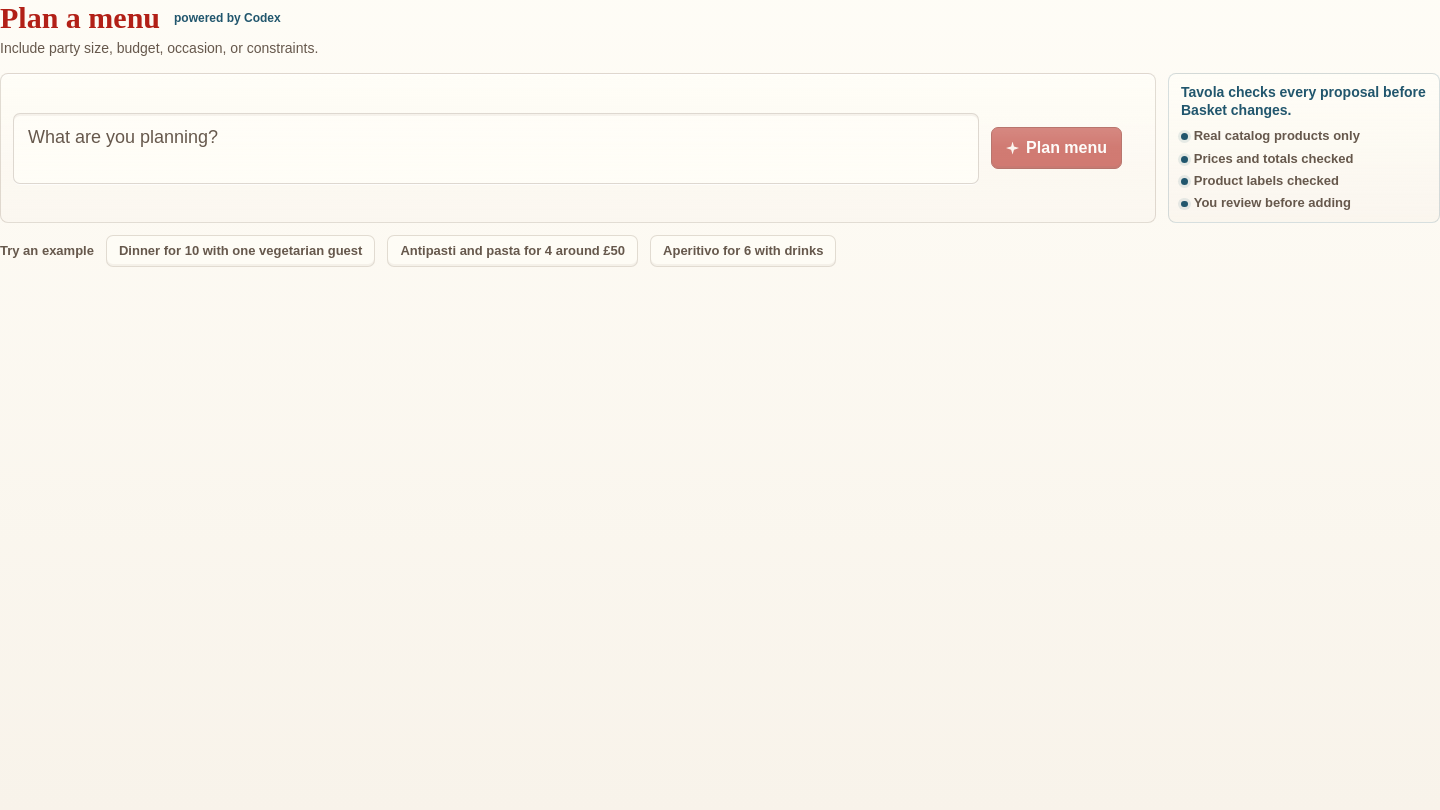
Scenario: PlannerWorkspace › opens catalog product details from a planned menu line
The image size is (1440, 810).
Type "Vegetarian dinner for 4 around £50" into the text box named "Meal request".
click(496, 148); type("Vegetarian dinner for 4 around £50")  # box [13,113,979,184]
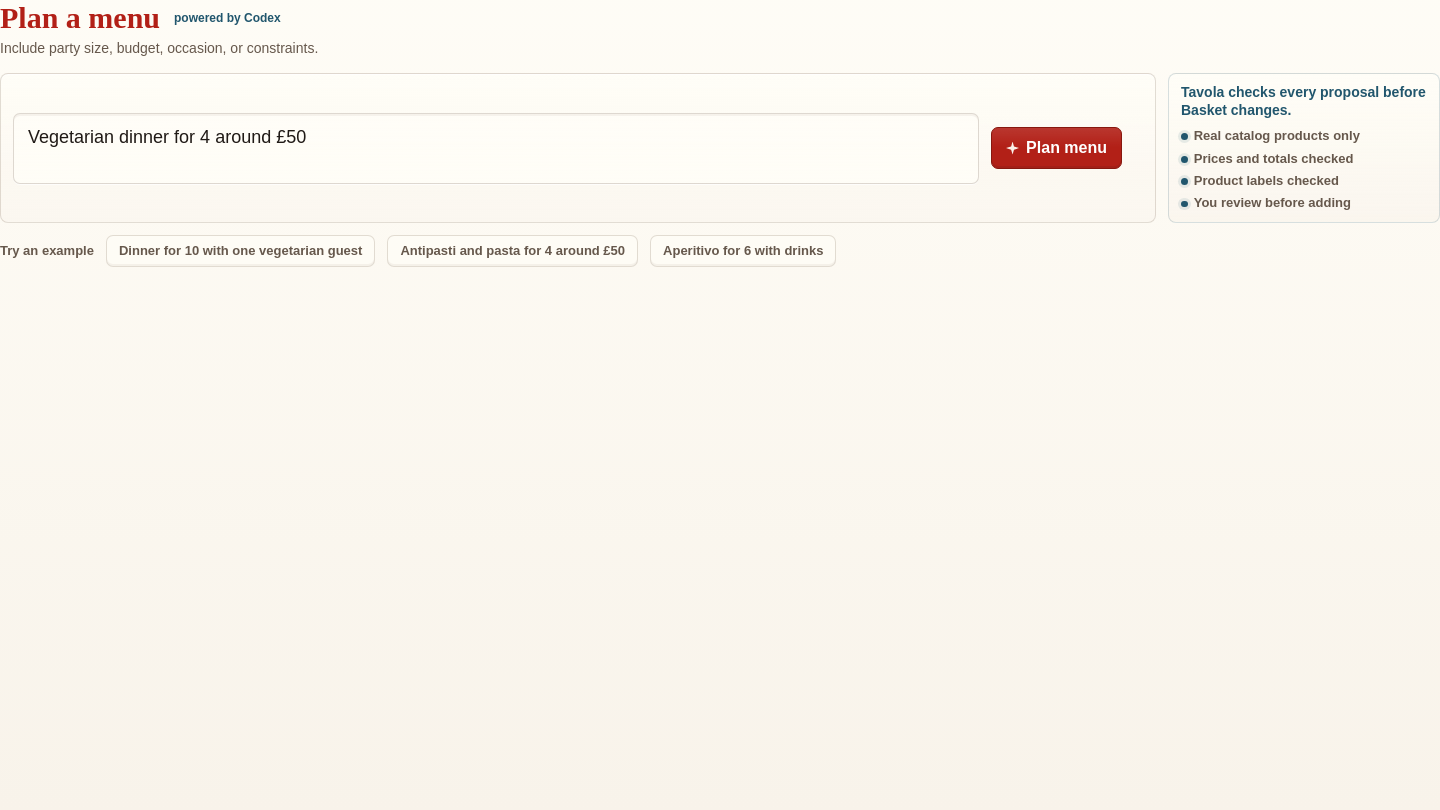
Click the button "Plan menu".
click(1056, 148)  # box [991,127,1122,169]
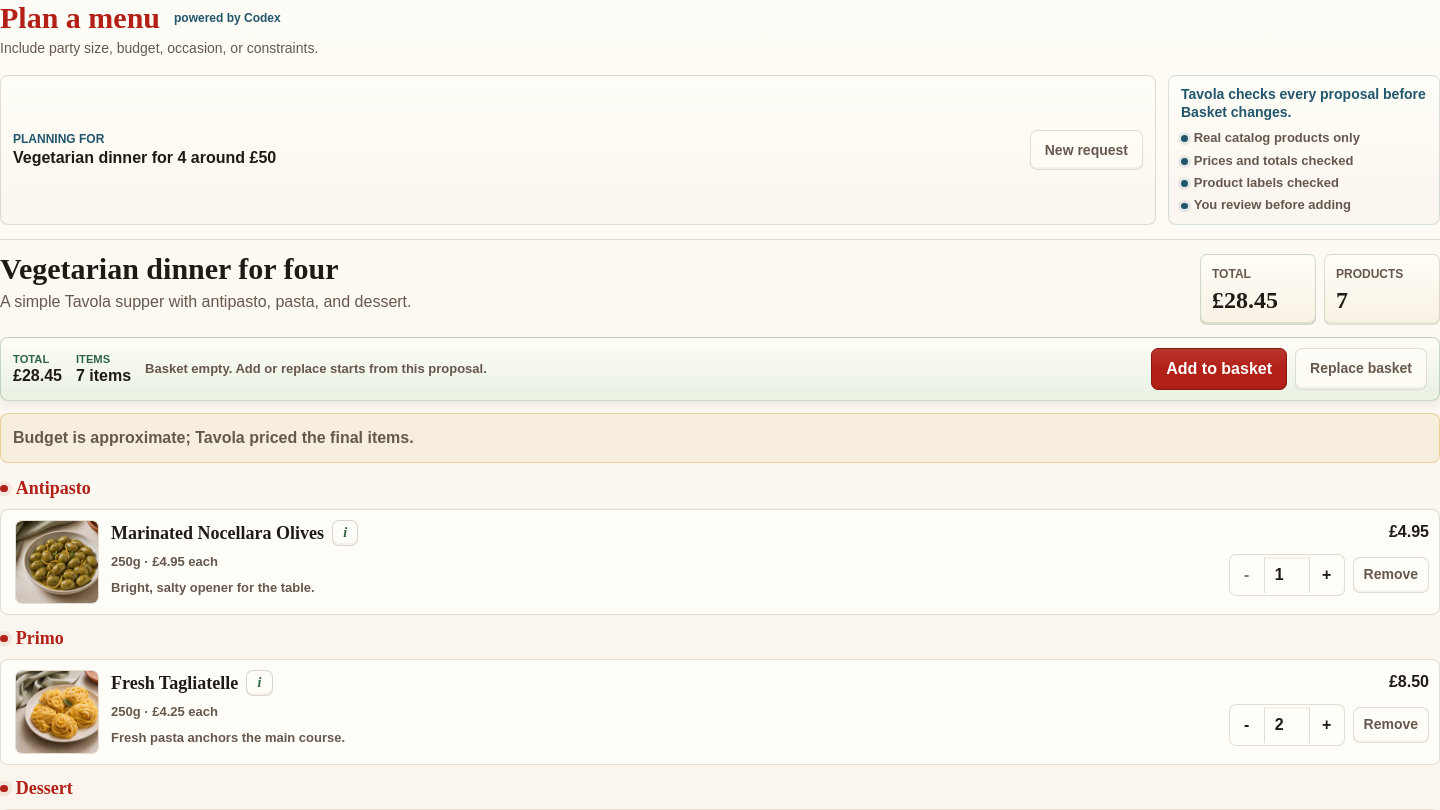
Click the button named "View details for Fresh Tagliatelle".
click(259, 683)  # box [246,670,273,696]
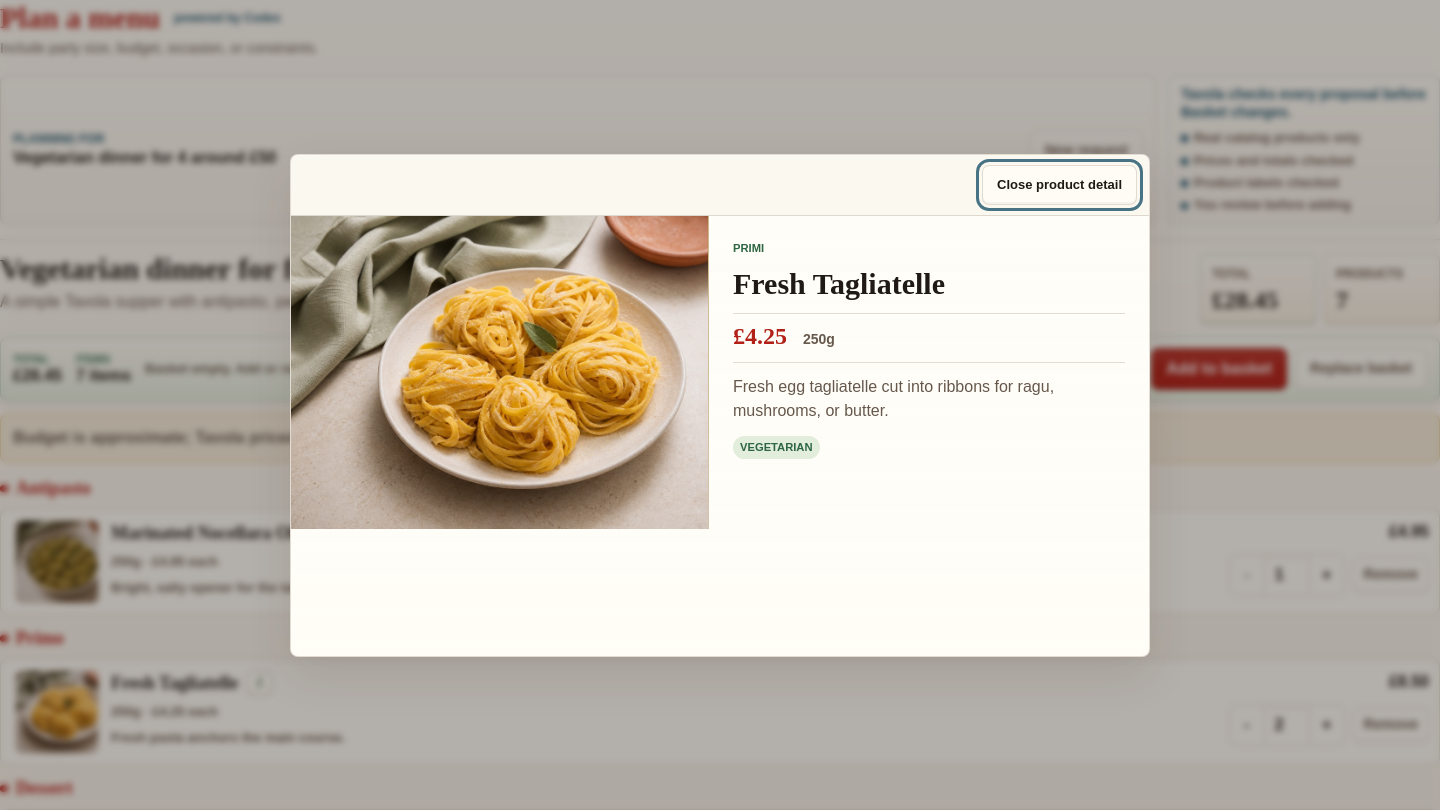
Check: the heading "Fresh Tagliatelle" is shown, box [733,267,945,300]
Check: the text "Fresh egg tagliatelle cut into ribbons for ragu, mushrooms, or butter." is shown, box [733,378,1054,420]
